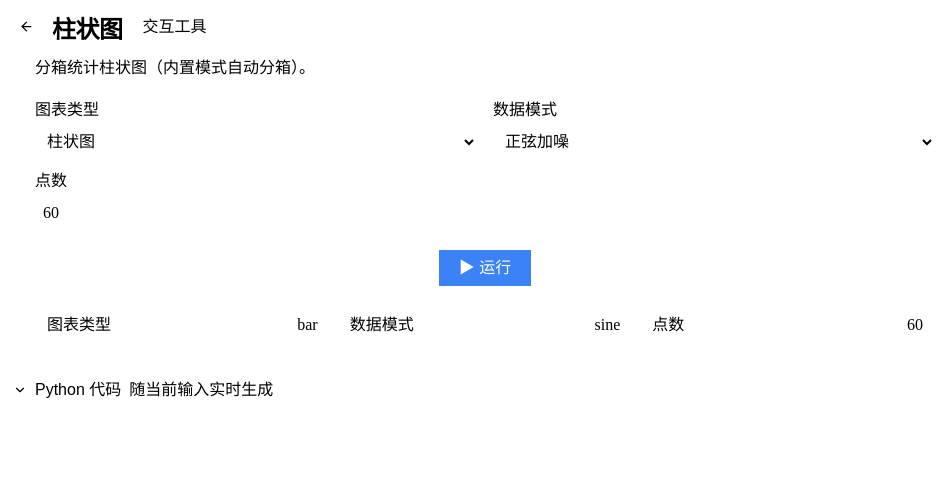
Test: 交互页回链与预选消费（InteractiveToolPage） › 动态表单：未锁型进入时切换类型，参数字段联动更新
The width and height of the screenshot is (949, 487).
expect the text "行数" is not shown: met
Select "热力图" in the dropdown labelled "图表类型" at (256, 142), box [35,126,477,158]
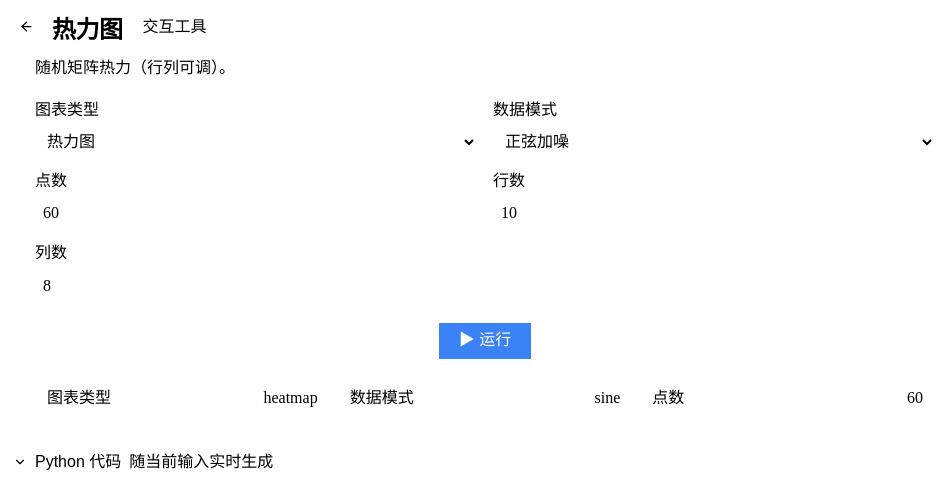
expect the text "行数" is shown: met, box [493,172,525,189]
